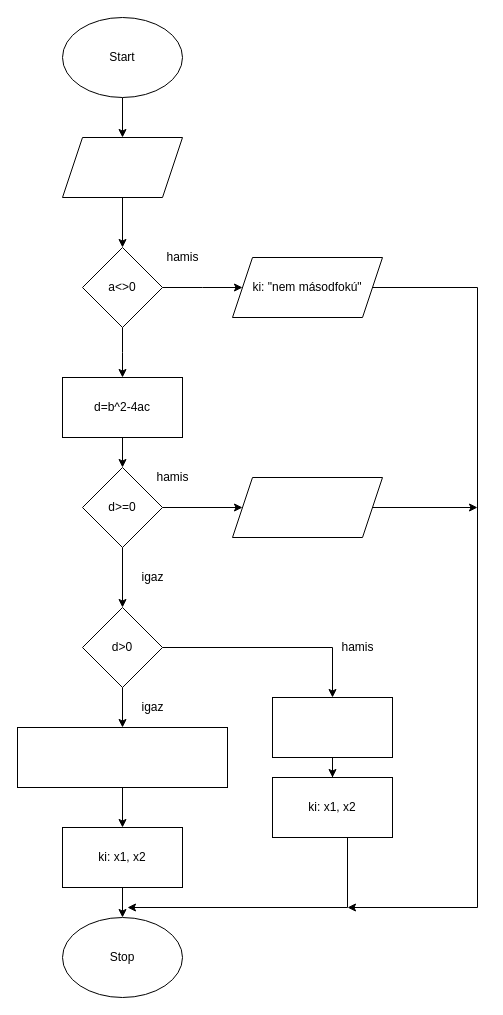
This 503x1015 diagram has some shape labels left out. The shapes that lost their labels are listed below. From the top down, each one's box as (x1, y1, x2, y2) in pixels, then its label:
(62, 136, 182, 198): be: a,b,c
(232, 476, 382, 538): ki: "nincs valós gyök"
(272, 696, 392, 758): x1:= -b/(2*a)
(16, 726, 228, 788): x1:=(-b+gyök(d))/(2*a) x1:=(-b-gyök(d))/(2*a)
